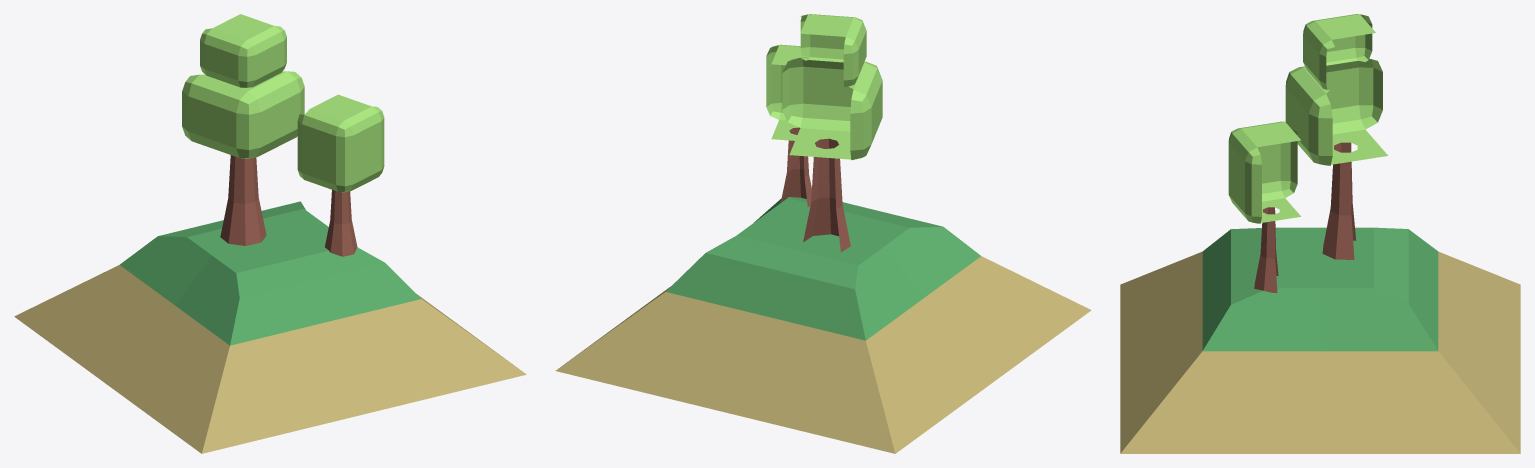
The model's file is остров.fbx.
3 renders of one model, left to right at view 1: azimuth 30°, elevation 25°; view 2: azimuth 150°, elevation 25°; view 3: azimuth 270°, elevation 25°, orthographic. The views are drawn at different scales.
Parts seen in each view (by area): view 1: Cube, Деревья3.001; view 2: Cube, Деревья3.001; view 3: Cube, Деревья3.001.
Boxes of the visible parts, box(x1,y1,x2,y2) form: Cube: box(14, 201, 526, 453); Деревья3.001: box(182, 14, 384, 256); Cube: box(555, 197, 1091, 453); Деревья3.001: box(766, 14, 882, 252); Cube: box(1120, 227, 1520, 453); Деревья3.001: box(1228, 14, 1387, 293).
Size of the model in its own units: 454 by 418 by 454.
